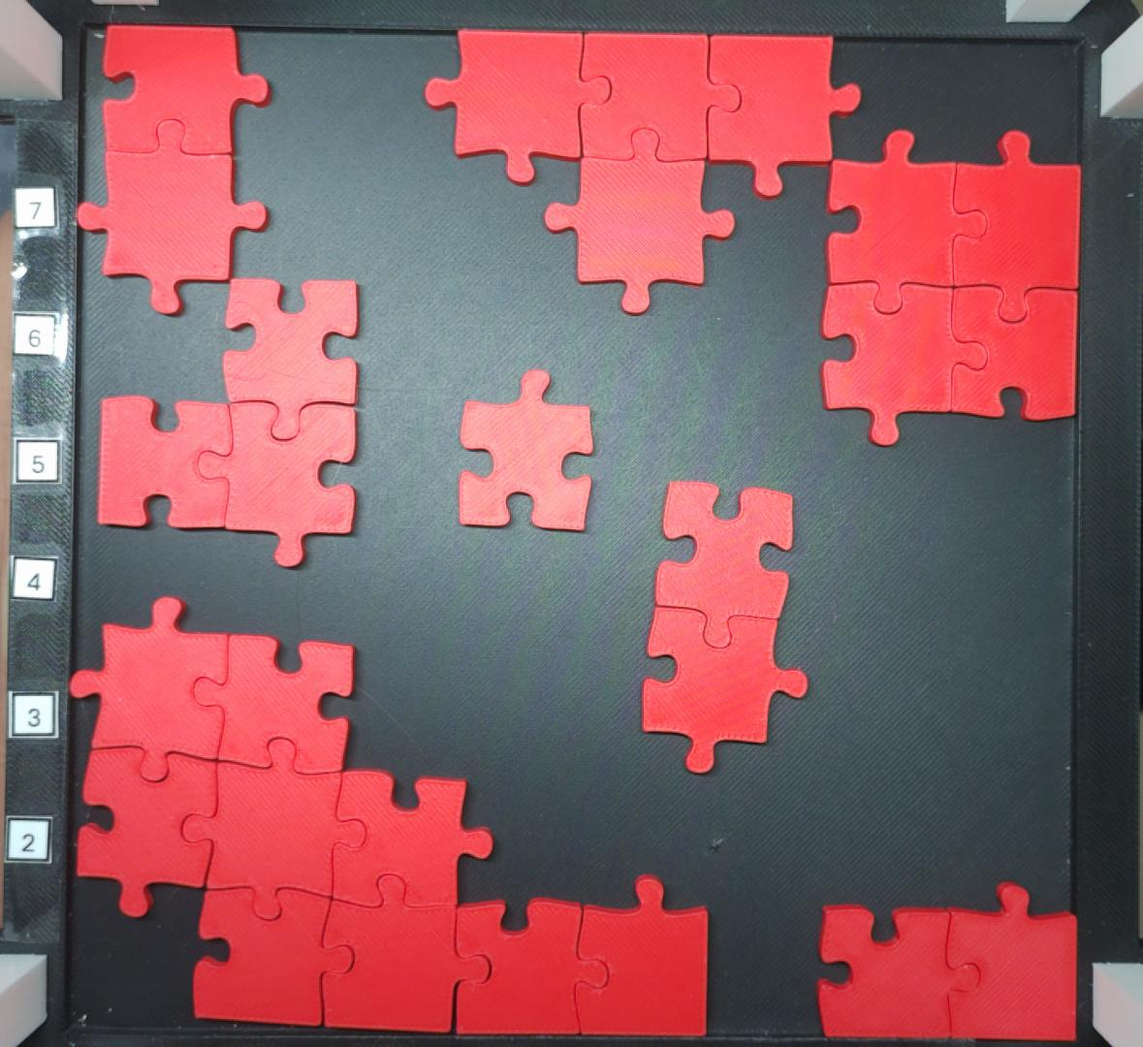p_1: (456, 367, 597, 537)
p_2: (74, 22, 271, 319), (640, 478, 812, 775), (815, 879, 1078, 1043)
p_3: (94, 276, 362, 568)
p_4: (422, 28, 864, 317), (819, 127, 1083, 449)
p_m: (65, 594, 712, 1041)
